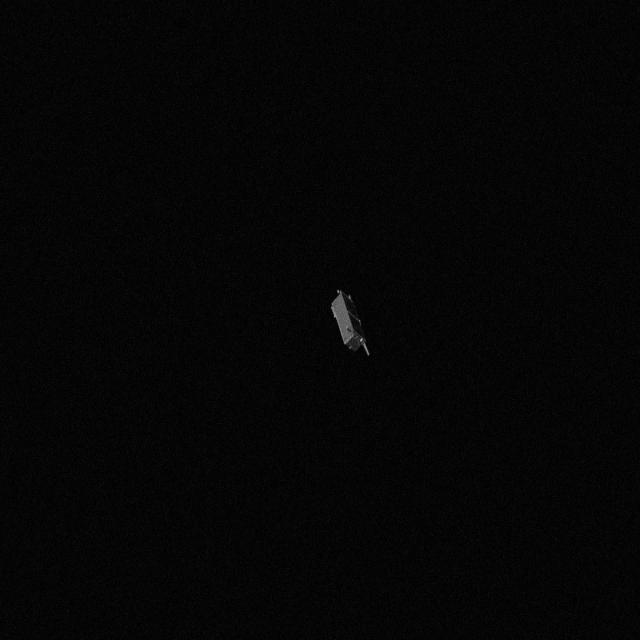satellite: (328, 286, 378, 364)
